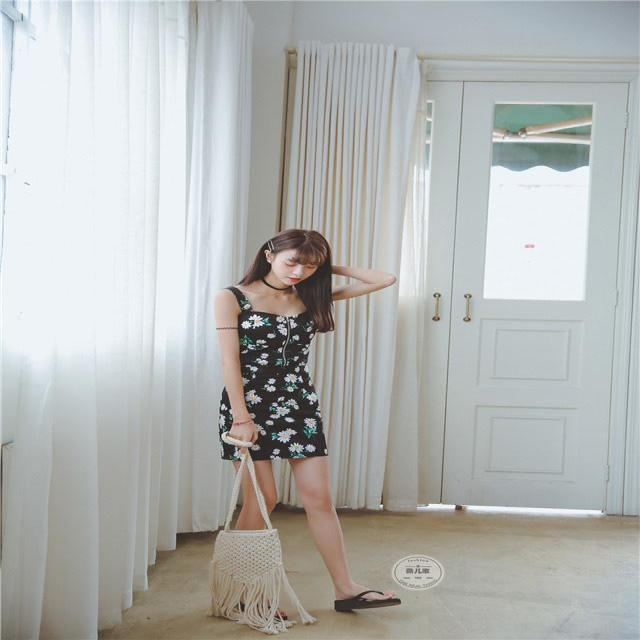vest dress: (219, 286, 329, 459)
